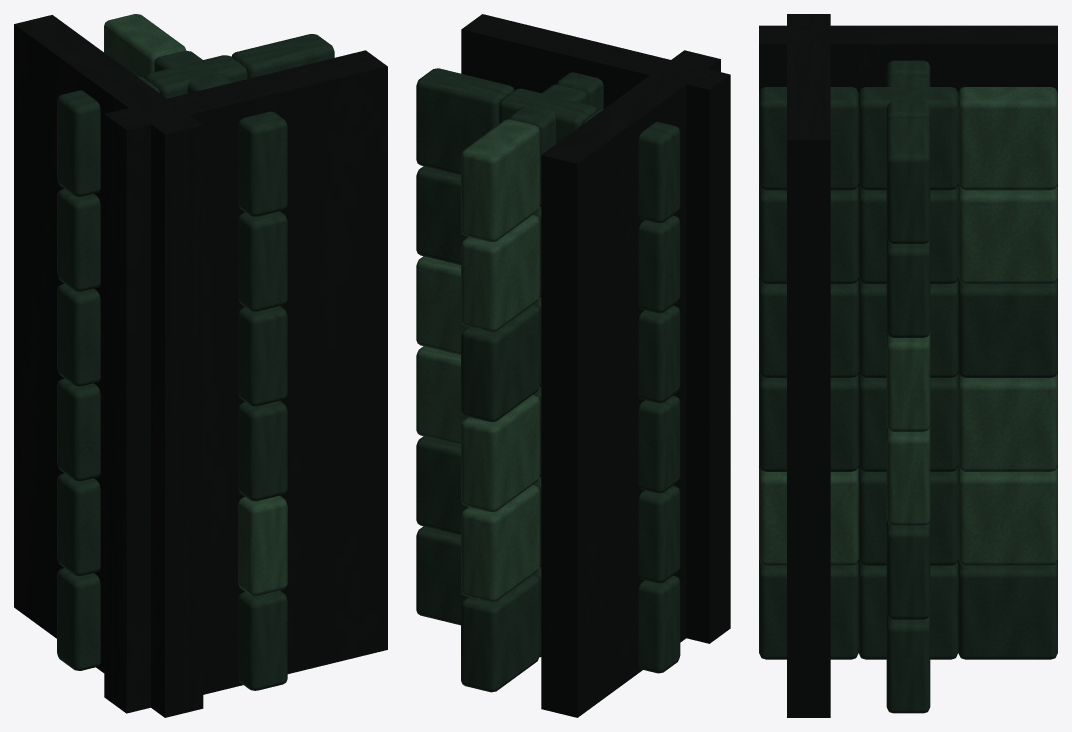
The model's file is 08_Modular_OutsideCorner.fbx.
3 renders of one model, left to right at view 1: azimuth 30°, elevation 25°; view 2: azimuth 150°, elevation 25°; view 3: azimuth 270°, elevation 25°, orthographic. The views are drawn at different scales.
Parts seen in each view (by area): view 1: OutsideCorner_Core_A.001, OutsideCorner_Core_B.001, OutsideCorner_Stone_1_5_0.001, OutsideCorner_Stone_1_4_0.001, OutsideCorner_Stone_1_0_0.001, OutsideCorner_Stone_1_2_0.001, OutsideCorner_Stone_1_3_0.001, OutsideCorner_Stone_1_1_0.001, OutsideCorner_Stone_0_5_0.001, OutsideCorner_Stone_0_3_0.001, OutsideCorner_Stone_0_2_0.001, OutsideCorner_Stone_0_0_0.001 (+6 smaller); view 2: OutsideCorner_Core_B.001, OutsideCorner_Core_A.001, OutsideCorner_Stone_1_5_2.001, OutsideCorner_Stone_1_0_2.001, OutsideCorner_Stone_1_1_2.001, OutsideCorner_Stone_1_3_2.001, OutsideCorner_Stone_1_4_2.001, OutsideCorner_Stone_1_2_2.001, OutsideCorner_Stone_0_5_2.001, OutsideCorner_Stone_0_0_2.001, OutsideCorner_Stone_0_1_2.001, OutsideCorner_Stone_0_2_2.001 (+11 smaller); view 3: OutsideCorner_Core_A.001, OutsideCorner_Core_B.001, OutsideCorner_Stone_1_5_2.001, OutsideCorner_Stone_1_0_2.001, OutsideCorner_Stone_1_1_2.001, OutsideCorner_Stone_1_2_2.001, OutsideCorner_Stone_1_3_2.001, OutsideCorner_Stone_1_4_2.001, OutsideCorner_Stone_1_5_1.001, OutsideCorner_Stone_1_5_0.001, OutsideCorner_Stone_0_5_2.001, OutsideCorner_Stone_1_0_1.001 (+16 smaller).
Boxes of the visible parts, x1,y1,x2,y2 form: OutsideCorner_Core_A.001: (104, 50, 387, 713); OutsideCorner_Core_B.001: (14, 15, 203, 717); OutsideCorner_Stone_1_5_0.001: (238, 111, 287, 216); OutsideCorner_Stone_1_4_0.001: (238, 211, 287, 311); OutsideCorner_Stone_1_0_0.001: (238, 590, 287, 690); OutsideCorner_Stone_1_2_0.001: (238, 401, 287, 501); OutsideCorner_Stone_1_3_0.001: (238, 306, 287, 406); OutsideCorner_Stone_1_1_0.001: (238, 495, 287, 595); OutsideCorner_Stone_0_5_0.001: (57, 76, 159, 196); OutsideCorner_Stone_0_3_0.001: (57, 283, 100, 386); OutsideCorner_Stone_0_2_0.001: (57, 378, 100, 481); OutsideCorner_Stone_0_0_0.001: (57, 568, 100, 670); OutsideCorner_Core_B.001: (541, 50, 720, 717); OutsideCorner_Core_A.001: (461, 14, 730, 643); OutsideCorner_Stone_1_5_2.001: (461, 119, 539, 241); OutsideCorner_Stone_1_0_2.001: (461, 575, 539, 692); OutsideCorner_Stone_1_1_2.001: (461, 485, 539, 602); OutsideCorner_Stone_1_3_2.001: (461, 305, 539, 421); OutsideCorner_Stone_1_4_2.001: (461, 215, 539, 331); OutsideCorner_Stone_1_2_2.001: (461, 395, 539, 511); OutsideCorner_Stone_0_5_2.001: (416, 68, 514, 175); OutsideCorner_Stone_0_0_2.001: (416, 526, 467, 625); OutsideCorner_Stone_0_1_2.001: (416, 436, 467, 535); OutsideCorner_Stone_0_2_2.001: (416, 346, 467, 445); OutsideCorner_Core_A.001: (787, 14, 830, 717); OutsideCorner_Core_B.001: (759, 25, 1057, 562); OutsideCorner_Stone_1_5_2.001: (958, 87, 1057, 190); OutsideCorner_Stone_1_0_2.001: (958, 561, 1057, 659); OutsideCorner_Stone_1_1_2.001: (958, 467, 1057, 565); OutsideCorner_Stone_1_2_2.001: (958, 373, 1057, 471); OutsideCorner_Stone_1_3_2.001: (958, 279, 1057, 377); OutsideCorner_Stone_1_4_2.001: (958, 186, 1057, 283); OutsideCorner_Stone_1_5_1.001: (858, 87, 958, 190); OutsideCorner_Stone_1_5_0.001: (759, 87, 858, 190); OutsideCorner_Stone_0_5_2.001: (886, 117, 930, 243); OutsideCorner_Stone_1_0_1.001: (858, 561, 958, 659).
Size of the model in its own units: 1.5 by 3.2 by 1.5.
3 materials, 3 textured.
